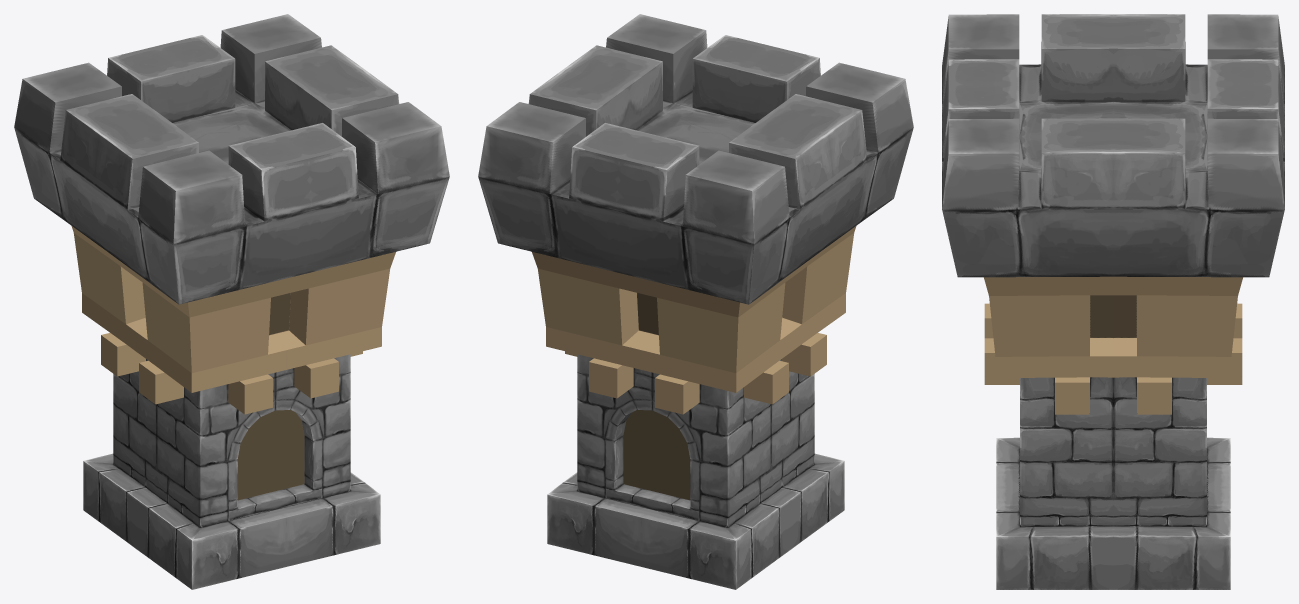
Rendered from simple-tower.fbx.
3 renders of one model, left to right at view 1: azimuth 30°, elevation 25°; view 2: azimuth 150°, elevation 25°; view 3: azimuth 270°, elevation 25°, orthographic. The views are drawn at different scales.
Visible parts, largest first — view 1: TowerBase; view 2: TowerBase; view 3: TowerBase.
Boxes of the visible parts, x1=… form: TowerBase: x1=14, y1=14, x2=449, y2=589; TowerBase: x1=478, y1=14, x2=913, y2=589; TowerBase: x1=942, y1=14, x2=1284, y2=589.
Size of the model in its own units: 293 by 431 by 293.
